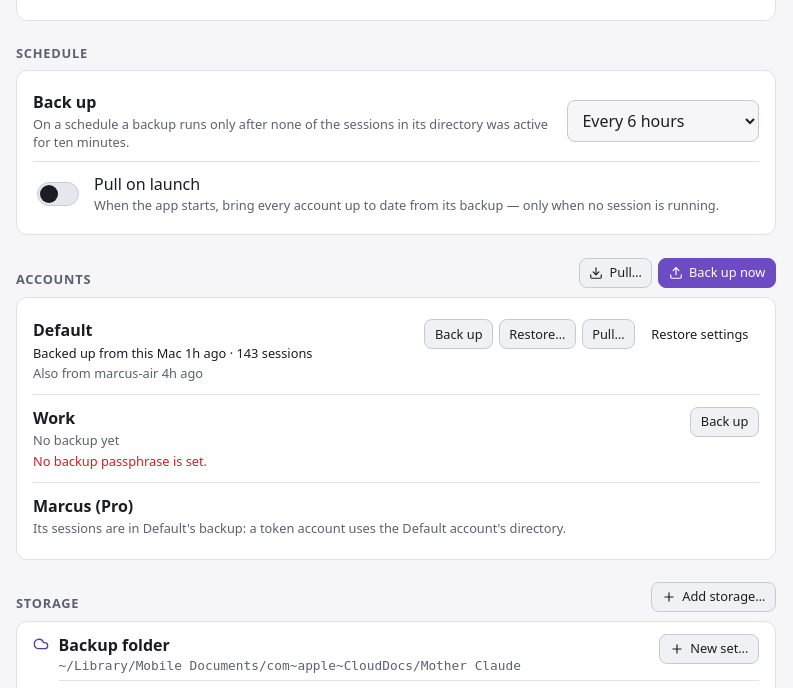
BackupComponent › unpacks the newest settings bundle and says where
(page scrolled)
Click the button "Restore settings" at (700,334), box [641,319,759,349]
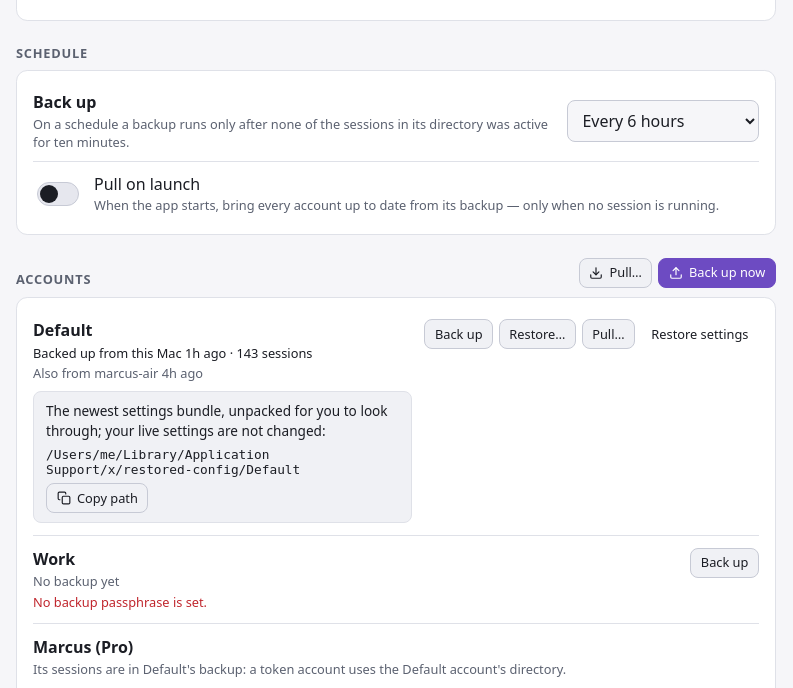
Now the message with class "cfg" shows "your live settings are not changed", box [46,400,388,440]
Now the message with class "cfg" shows "/Users/me/Library/Application Support/x/restored-config/Default", box [46,447,300,477]
